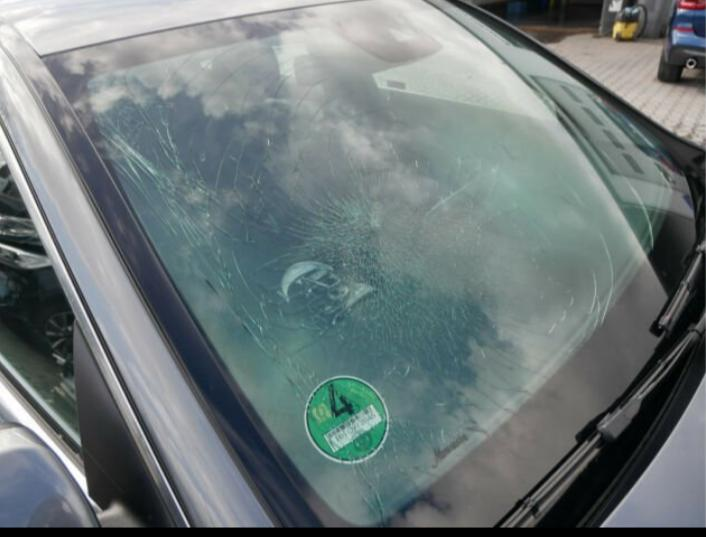Front-door: (0, 361, 87, 496)
Front-window: (0, 152, 78, 451)
Hood: (602, 376, 704, 527)
Mirror: (0, 427, 100, 528)
Roof: (0, 0, 341, 55)
Windshield: (42, 0, 704, 528)
